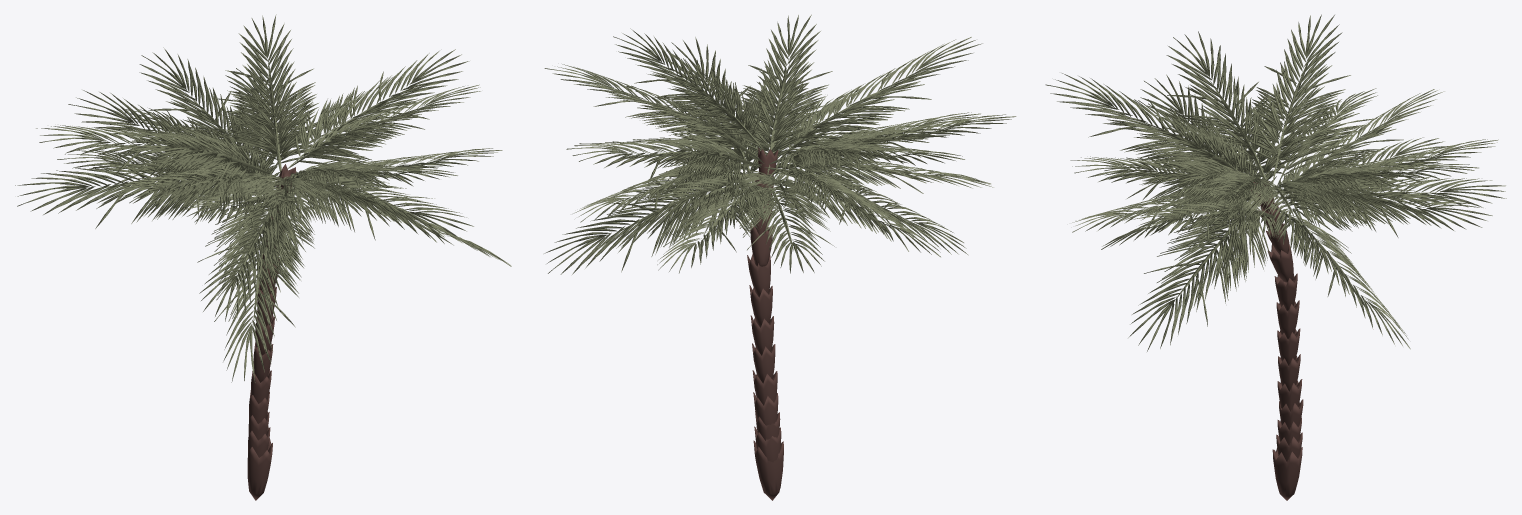
The model's file is Palm.fbx.
3 renders of one model, left to right at view 1: azimuth 30°, elevation 25°; view 2: azimuth 150°, elevation 25°; view 3: azimuth 270°, elevation 25°, orthographic. The views are drawn at different scales.
Visible parts, largest first — view 1: Cylinder.006; view 2: Cylinder.006; view 3: Cylinder.006.
Boxes of the visible parts, x1,y1,x2,y2 form: Cylinder.006: (15, 14, 511, 500); Cylinder.006: (544, 14, 1016, 500); Cylinder.006: (1045, 14, 1506, 500).
Size of the model in its own units: 564 by 516 by 551.
